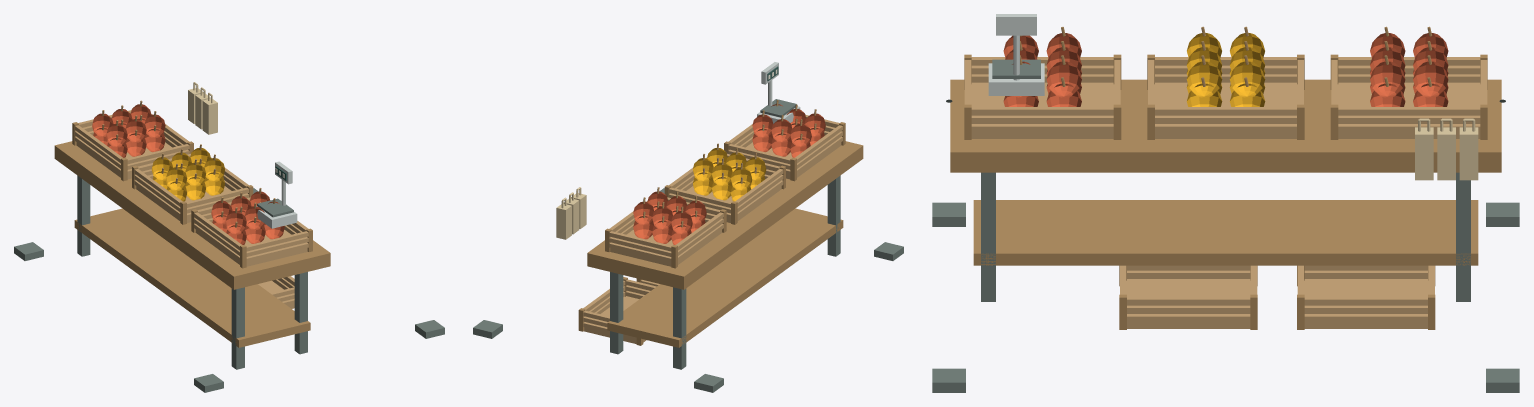
The model's file is market-fruit-table.glb.
3 renders of one model, left to right at view 1: azimuth 30°, elevation 25°; view 2: azimuth 150°, elevation 25°; view 3: azimuth 270°, elevation 25°, orthographic. The views are drawn at different scales.
Visible parts, largest first — view 1: fruit market stall; view 2: fruit market stall; view 3: fruit market stall.
Boxes of the visible parts, x1,y1,x2,y2 form: fruit market stall: (14,82,444,392); fruit market stall: (473,62,903,392); fruit market stall: (932,14,1519,392).
Bounding box in the file's own units: 2.28 × 1.69 × 3.14.
